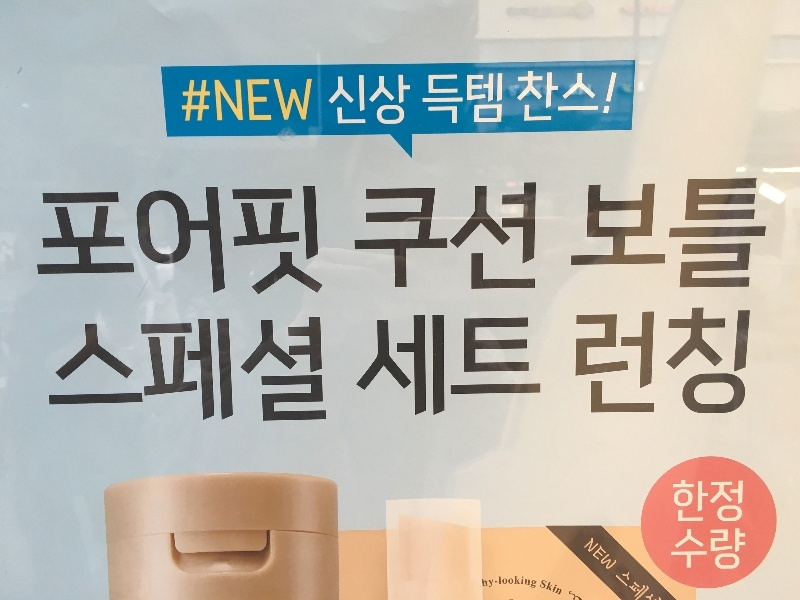text: (593, 179, 608, 298), (609, 179, 624, 298), (625, 179, 640, 298), (641, 179, 656, 298), (657, 179, 672, 298), (673, 179, 688, 298), (689, 179, 704, 298), (705, 179, 720, 298), (721, 179, 736, 298), (737, 179, 752, 298), (753, 179, 768, 298), (385, 312, 400, 429), (401, 312, 416, 429), (417, 312, 432, 429), (433, 312, 448, 429), (449, 312, 464, 429), (465, 312, 480, 429), (481, 312, 496, 429), (497, 312, 512, 429), (513, 312, 528, 429), (529, 312, 544, 429), (49, 188, 64, 299), (65, 188, 80, 299), (81, 188, 96, 299), (97, 188, 112, 299), (113, 188, 128, 299), (129, 188, 144, 299), (145, 188, 160, 299), (161, 188, 176, 299), (177, 188, 192, 299), (193, 188, 208, 299), (209, 188, 224, 299), (225, 188, 240, 299), (241, 188, 256, 299), (257, 188, 272, 299), (273, 188, 288, 299), (289, 188, 304, 299), (305, 188, 320, 299), (577, 305, 592, 415), (593, 305, 608, 415), (609, 305, 624, 415), (625, 305, 640, 415), (641, 305, 656, 415), (657, 305, 672, 415), (673, 305, 688, 415), (689, 305, 704, 415), (705, 305, 720, 415), (721, 305, 736, 415), (737, 305, 752, 415), (369, 184, 384, 291), (385, 184, 400, 291), (401, 184, 416, 291), (417, 184, 432, 291), (433, 184, 448, 291), (449, 184, 464, 291), (465, 184, 480, 291), (481, 184, 496, 291), (497, 184, 512, 291), (513, 184, 528, 291), (81, 319, 96, 424), (97, 319, 112, 424), (113, 319, 128, 424), (129, 319, 144, 424), (145, 319, 160, 424), (161, 319, 176, 424), (177, 319, 192, 424), (193, 319, 208, 424), (209, 319, 224, 424), (225, 319, 240, 424), (241, 319, 256, 424), (257, 319, 272, 424), (273, 319, 288, 424), (289, 319, 304, 424), (305, 319, 320, 424), (579, 179, 592, 298), (67, 319, 80, 424), (769, 179, 778, 298), (376, 312, 384, 429), (529, 184, 537, 291), (529, 72, 544, 126), (545, 72, 560, 126), (561, 72, 576, 126), (577, 72, 592, 126), (593, 72, 608, 126), (337, 73, 352, 125), (353, 73, 368, 125), (369, 73, 384, 125), (385, 73, 400, 125), (433, 74, 448, 125), (449, 74, 464, 125), (465, 74, 480, 125), (481, 74, 496, 125), (193, 79, 208, 124), (209, 79, 224, 124), (225, 79, 240, 124), (241, 79, 256, 124), (257, 79, 272, 124), (273, 79, 288, 124), (289, 79, 304, 124), (673, 481, 688, 525), (689, 481, 704, 525), (705, 481, 720, 525), (721, 481, 736, 525), (673, 530, 688, 571), (689, 530, 704, 571), (705, 530, 720, 571), (721, 530, 736, 571), (43, 188, 48, 299), (518, 72, 528, 126), (321, 319, 326, 424), (401, 73, 411, 125), (593, 538, 608, 571), (327, 73, 336, 125), (423, 74, 432, 125), (609, 72, 617, 126), (737, 530, 747, 571), (183, 79, 192, 124), (497, 74, 504, 125), (737, 481, 745, 525), (321, 188, 324, 299), (305, 79, 312, 124), (629, 572, 640, 600), (609, 538, 617, 571), (641, 572, 650, 600), (545, 580, 560, 595), (366, 184, 368, 291), (481, 576, 496, 590), (497, 576, 512, 590), (513, 576, 528, 590), (529, 576, 538, 590), (646, 592, 656, 600), (561, 580, 564, 595), (657, 592, 661, 600), (543, 580, 544, 595)
